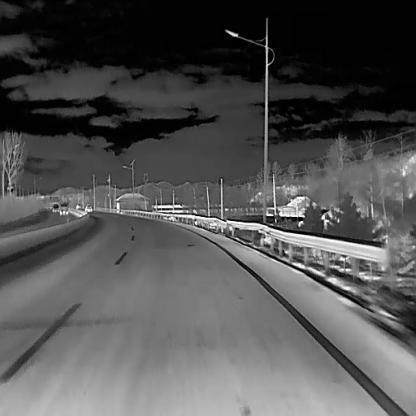car: (59, 200, 68, 214), (84, 202, 93, 214), (51, 201, 59, 213), (75, 202, 81, 210)
